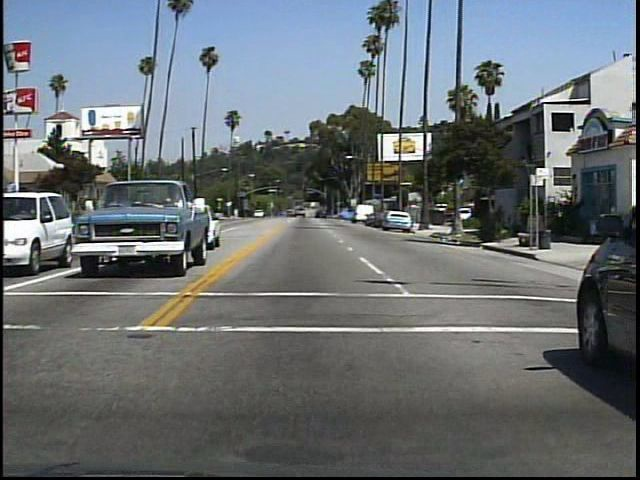person: (493, 199, 517, 247)
